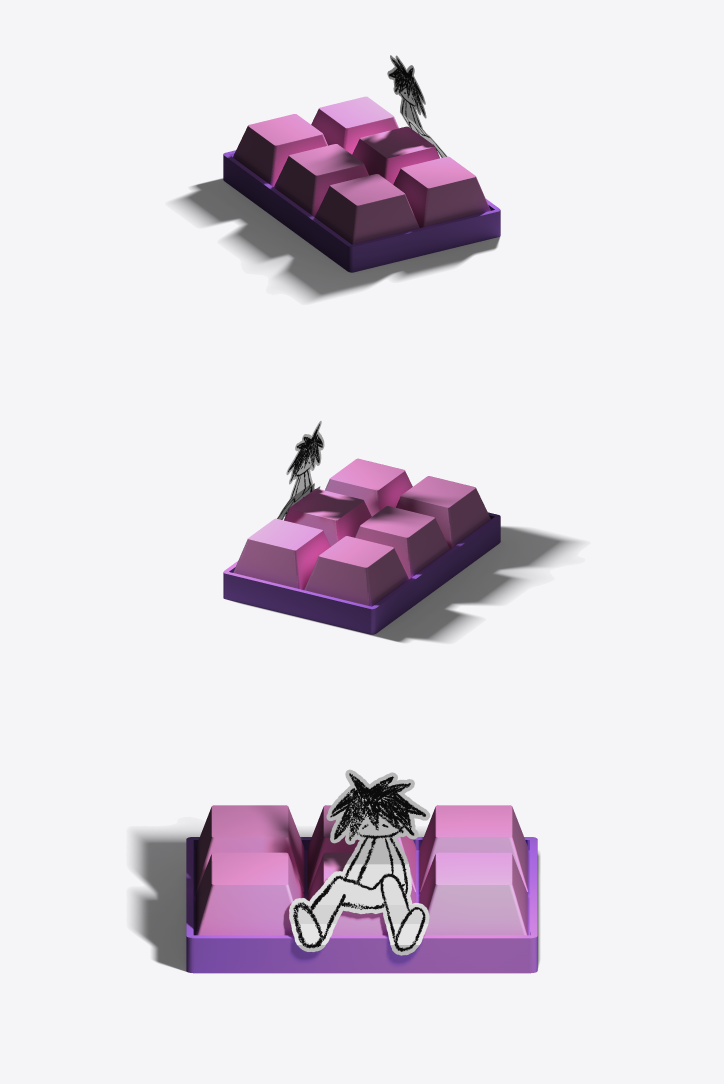
The model's file is keyboard.gltf.
3 renders of one model, top to bottom at view 1: azimuth 30°, elevation 25°; view 2: azimuth 150°, elevation 25°; view 3: azimuth 270°, elevation 25°, orthographic. The views are drawn at different scales.
Visible parts, largest first — view 1: Keycaps, Plane, Plate, Character; view 2: Keycaps, Plate, Plane, Character; view 3: Keycaps, Plate, Character, Plane.
Part boxes in pixels (x1,y1,x2,y2): Keycaps: [233, 96, 490, 244]; Plane: [174, 178, 499, 300]; Plate: [223, 150, 500, 272]; Character: [387, 55, 447, 157]; Keycaps: [233, 458, 490, 606]; Plate: [223, 512, 500, 634]; Plane: [230, 526, 578, 642]; Character: [277, 421, 324, 519]; Keycaps: [195, 805, 528, 935]; Plate: [186, 837, 537, 973]; Character: [289, 769, 430, 955]; Plane: [134, 832, 539, 971].
Bounding box in the file's own units: 9.32 × 3.05 × 9.32.
4 materials, 4 textured.
